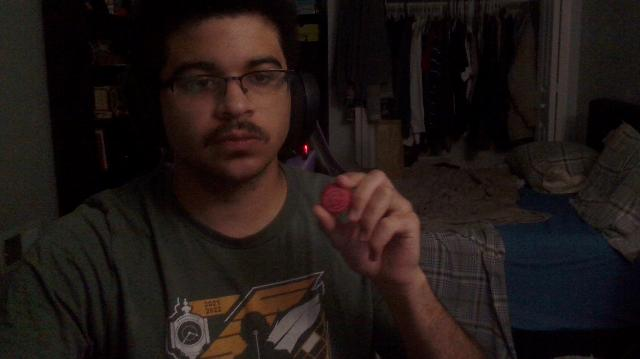cap: (322, 184, 351, 213)
